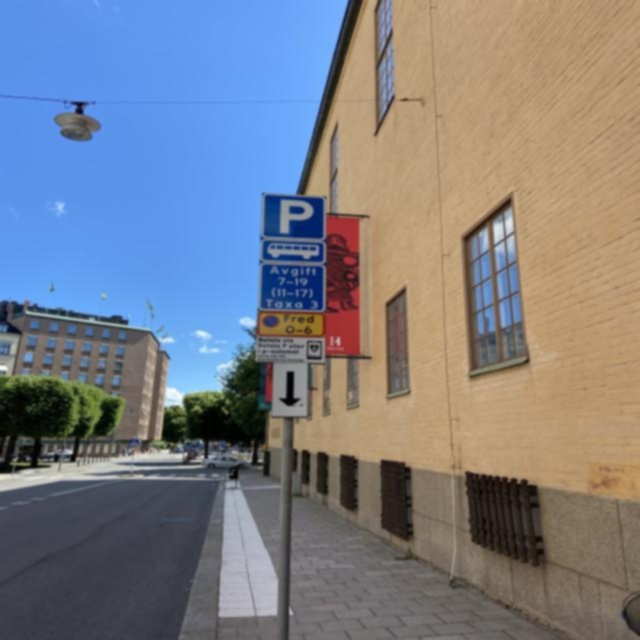P-skylt: (260, 191, 326, 242)
